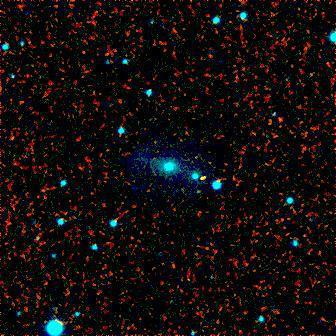star: (184, 166, 214, 196)
